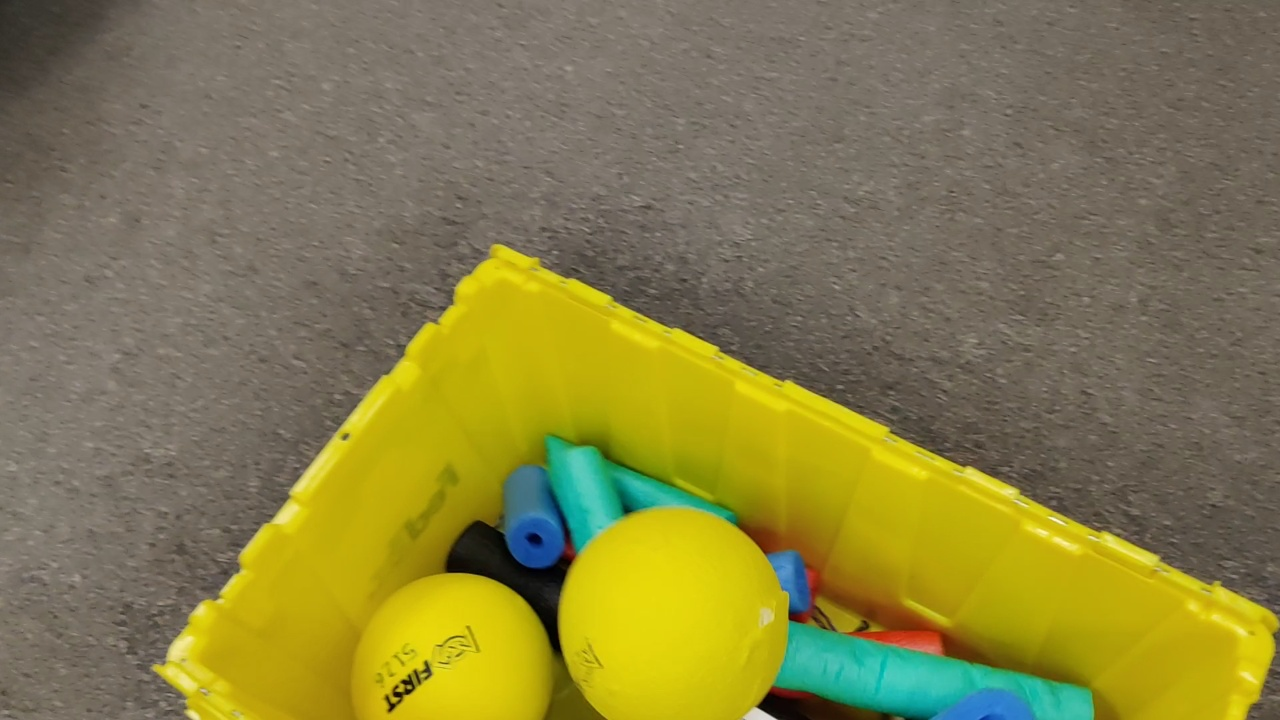Ball: (558, 508, 794, 720), (353, 571, 549, 720)
